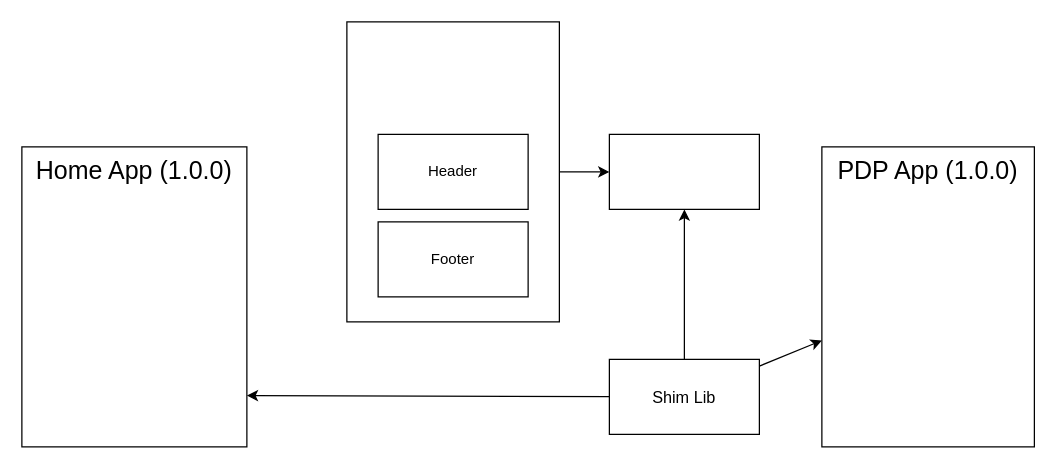
Some shapes in this 1056 by 469 pixel diagram are drawn without their labels. The shapes that lost their labels are listed below. From the top down, each one's box as (x1, y1, x2, y2) in pixels, then its label:
(346, 21, 559, 322): Header/Footer Project
(608, 133, 759, 209): S3 Artifacts
